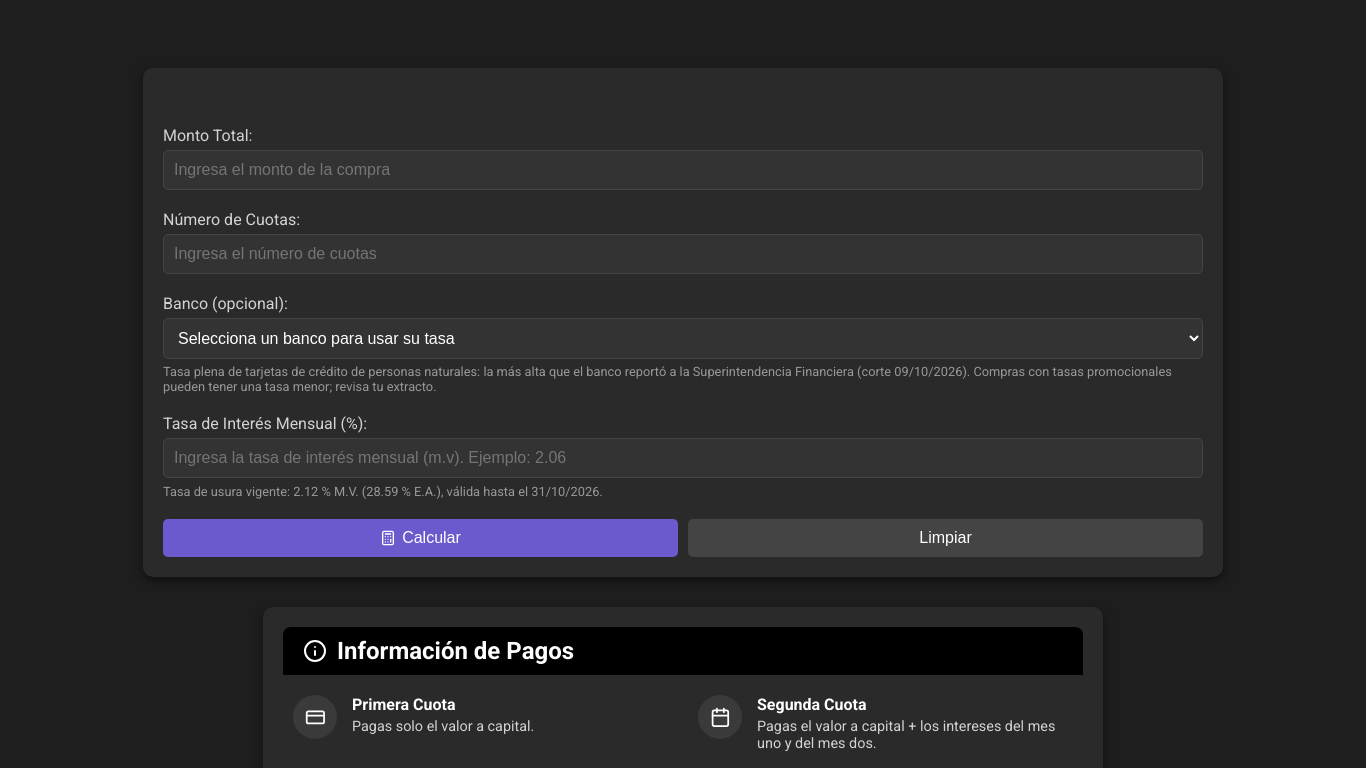
Test: acepta montos de un millón o más y formatea con puntos
Check: the text "Tasa de usura vigente" is shown, box [163, 484, 603, 499]
Step 1. Type "1200000" into the field labelled "Monto Total:" → (683, 170), box [163, 150, 1203, 190]
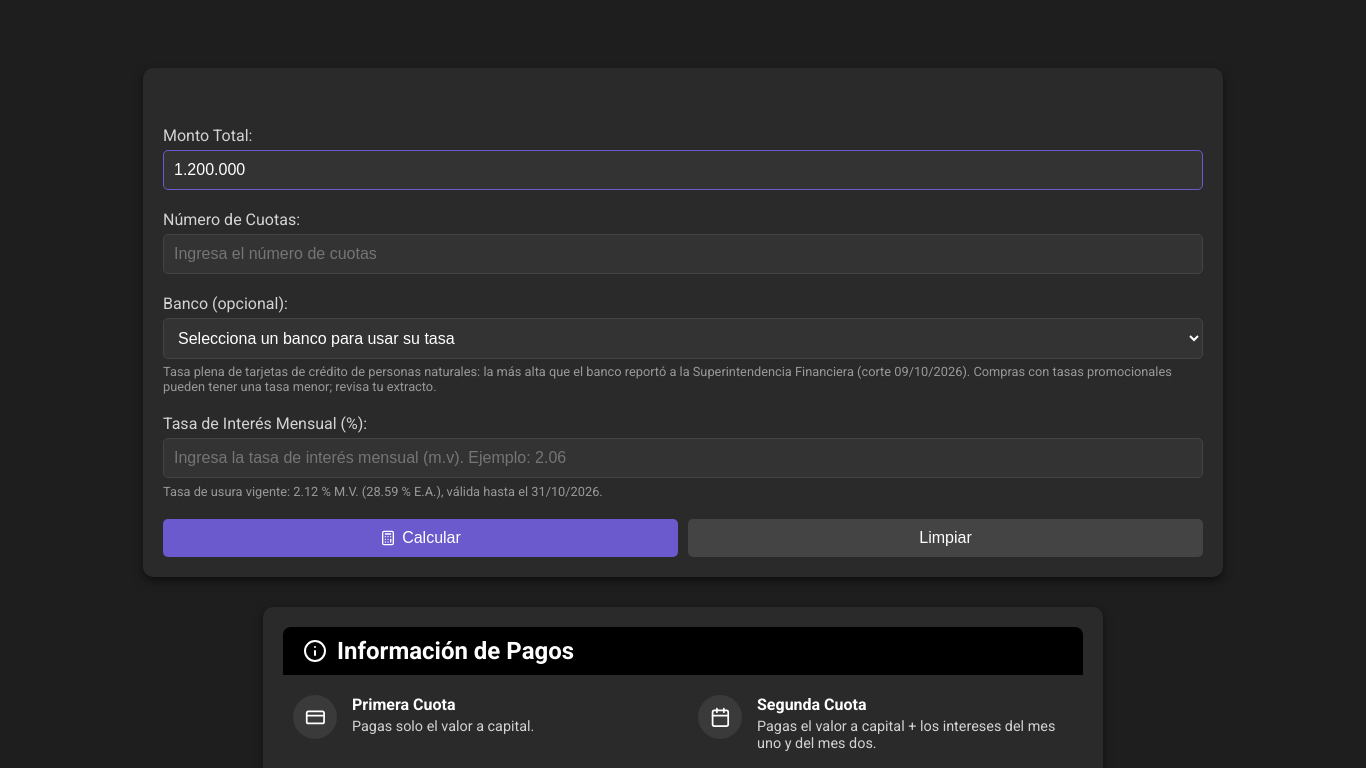
Step 2. Type "6" into the number field labelled "Número de Cuotas:" → (683, 254), box [163, 234, 1203, 274]
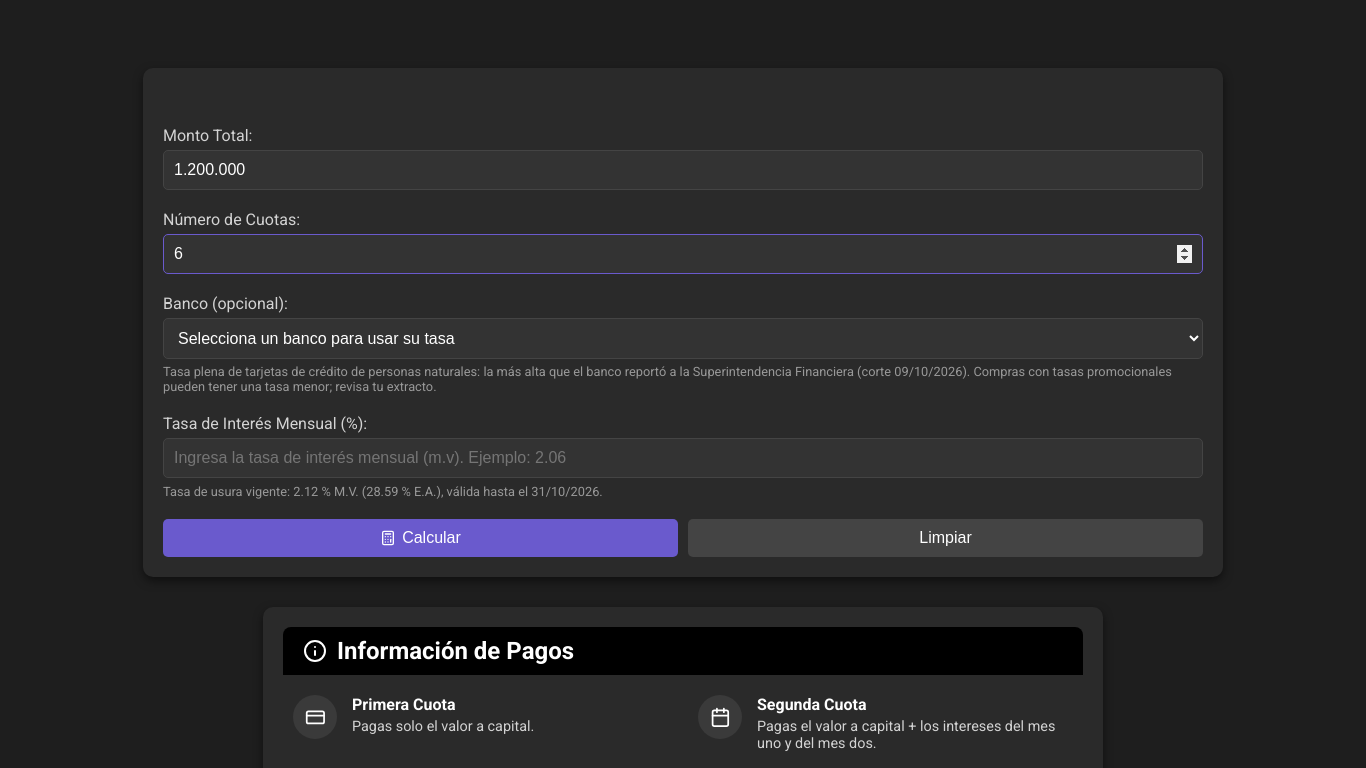
Step 3. Type "2" into the number field labelled "Tasa de Interés Mensual (%):" → (683, 458), box [163, 438, 1203, 478]
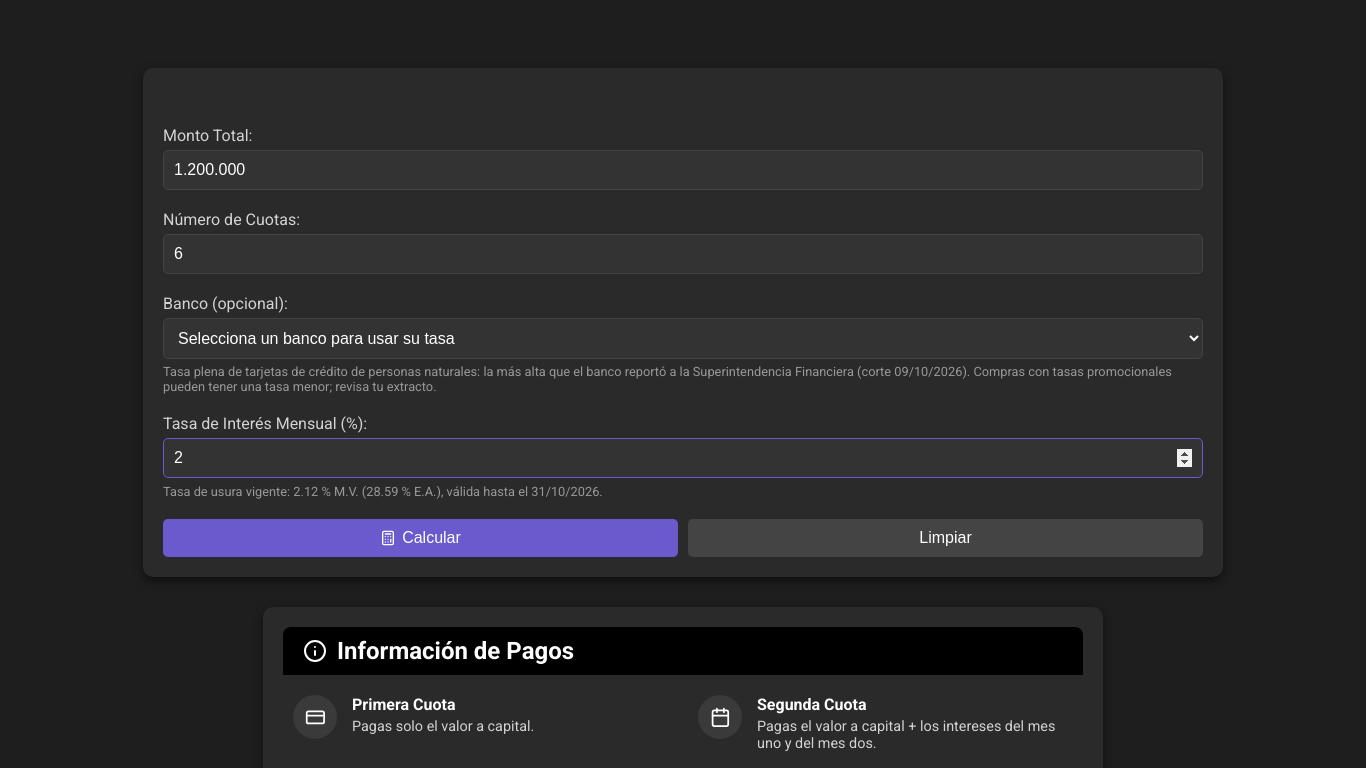
Step 4. Click the button "Calcular" → click(420, 538), box [163, 519, 678, 557]
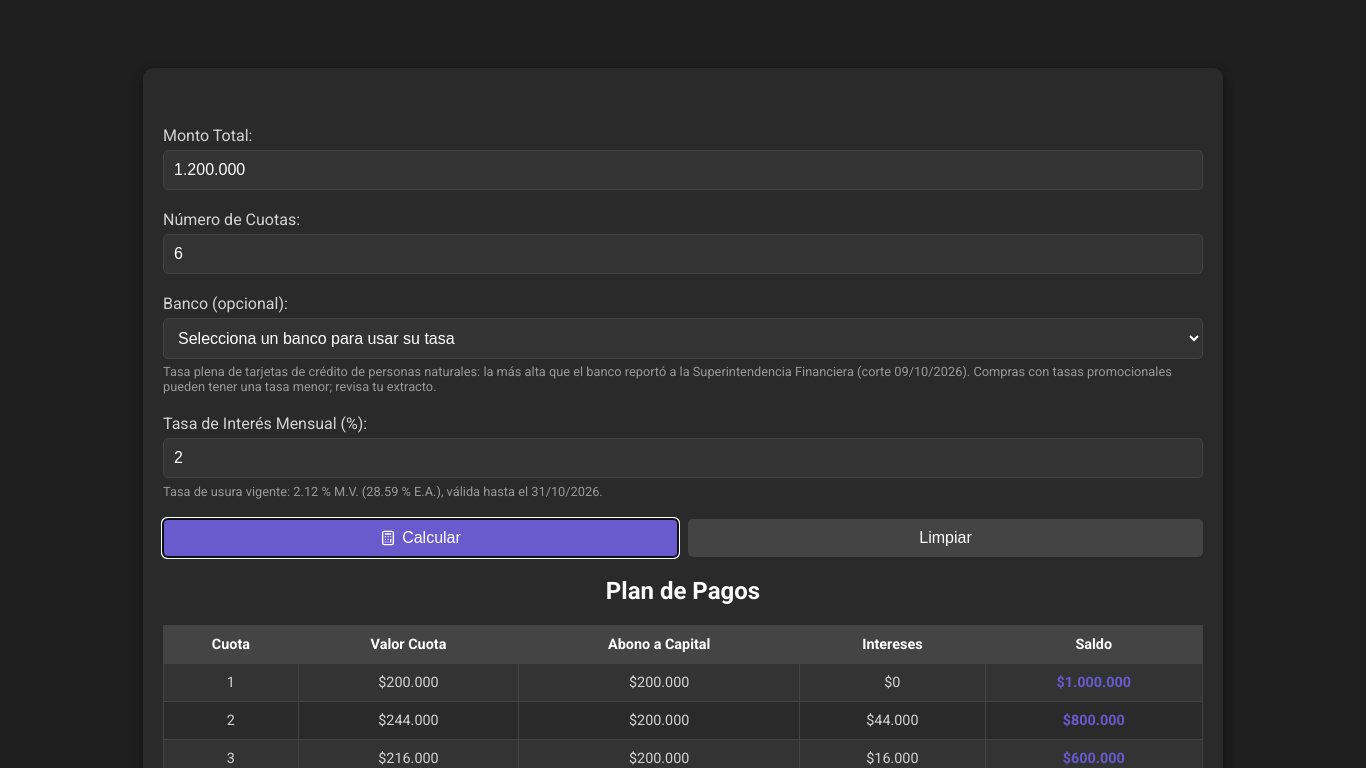
Check: the field labelled "Monto Total:" holds "1.200.000", box [163, 150, 1203, 190]
Check: the heading "Plan de Pagos" is shown, box [606, 577, 760, 605]
Check: the number of rows is 7
